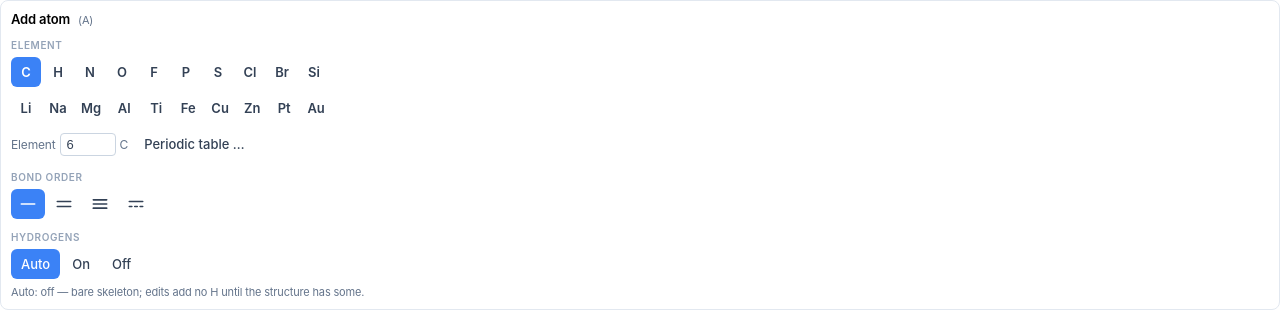
Test case: ContextBar — Hydrogens › is a radio group bound to the store, with a hint for the open structure
expect the text with test id "builder-hydrogens-hint" shows "Auto: off": met, box [11,285,364,299]
Click the radio button with test id "builder-hydrogens-off" at (122, 264), box [102,249,141,279]
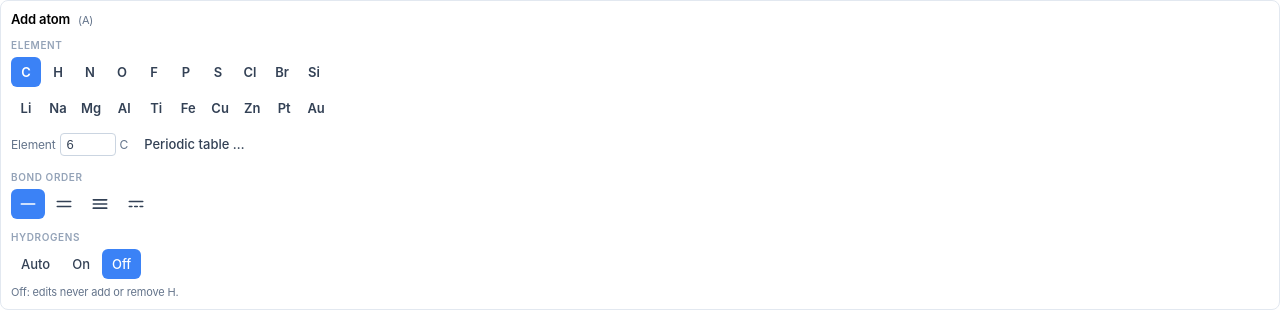
expect the text with test id "builder-hydrogens-hint" shows "Off:": met, box [11,285,178,299]
